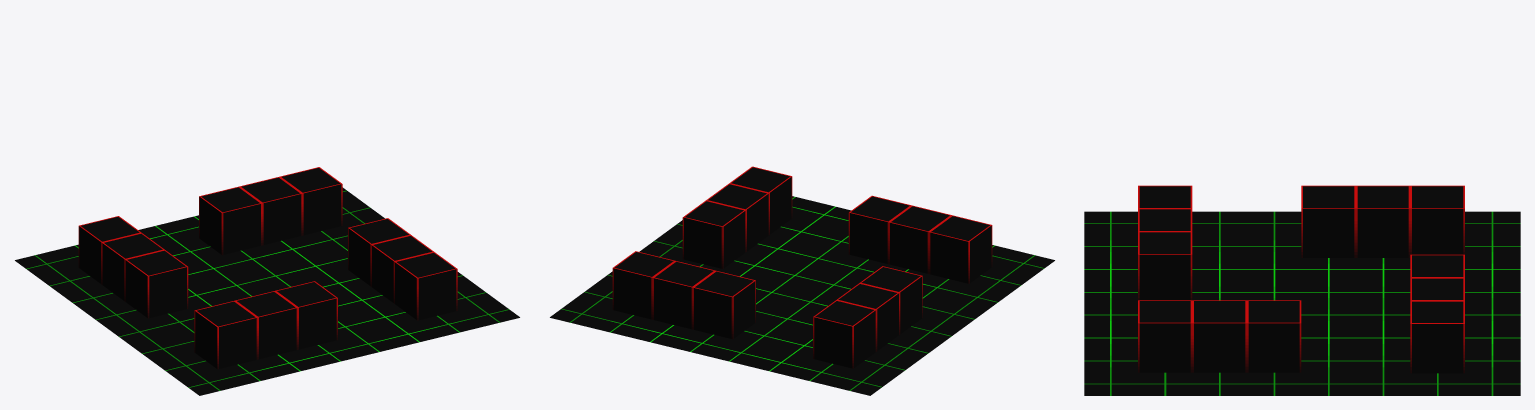
The model's file is colosseum.glb.
3 renders of one model, left to right at view 1: azimuth 30°, elevation 25°; view 2: azimuth 150°, elevation 25°; view 3: azimuth 270°, elevation 25°, orthographic. The views are drawn at different scales.
Visible parts, largest first — view 1: colosseum_blocks-col, colosseum_ground-col; view 2: colosseum_blocks-col, colosseum_ground-col; view 3: colosseum_ground-col, colosseum_blocks-col.
Part boxes in pixels (x1,y1,x2,y2): colosseum_blocks-col: (78,167,457,369); colosseum_ground-col: (15,187,519,395); colosseum_blocks-col: (612,166,992,368); colosseum_ground-col: (550,196,1054,395); colosseum_ground-col: (1084,211,1520,395); colosseum_blocks-col: (1138,185,1464,373).
Bounding box in the file's own units: 4 × 2 × 4.
Materials: 2 (1 with a texture image).
